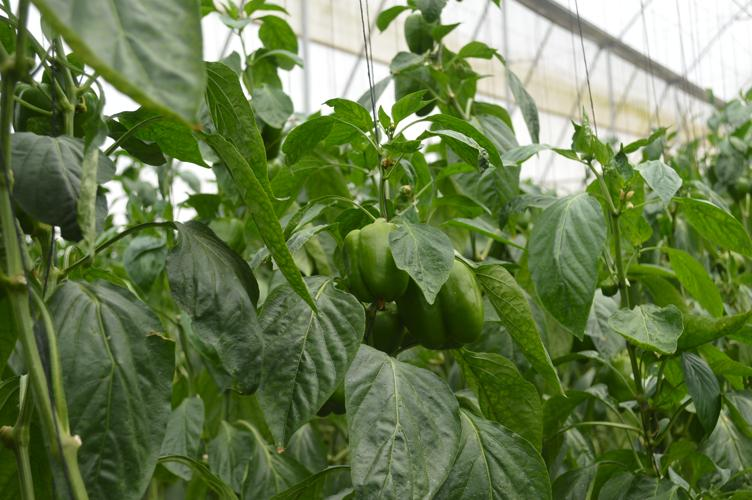BellPepper: (400, 255, 487, 355), (339, 219, 408, 303)
